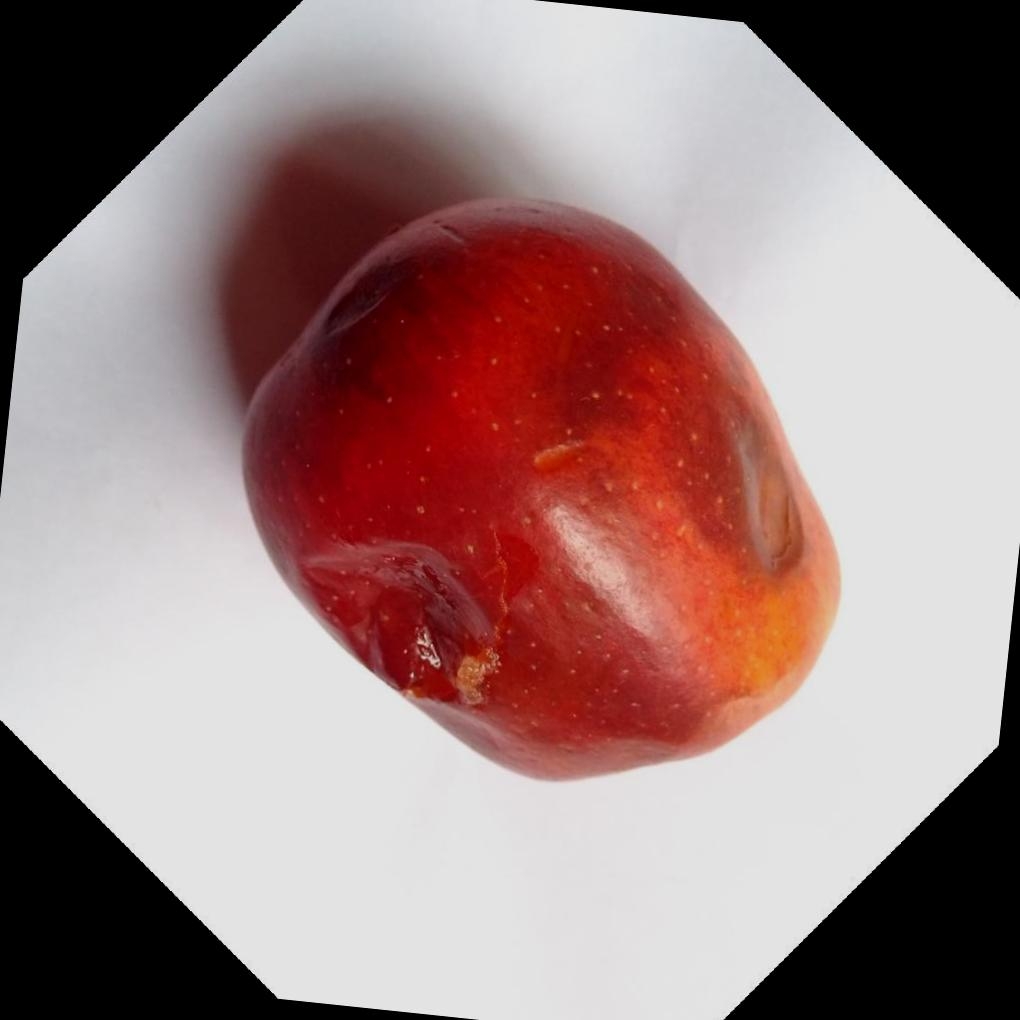FreshOrange: (235, 192, 841, 783)
